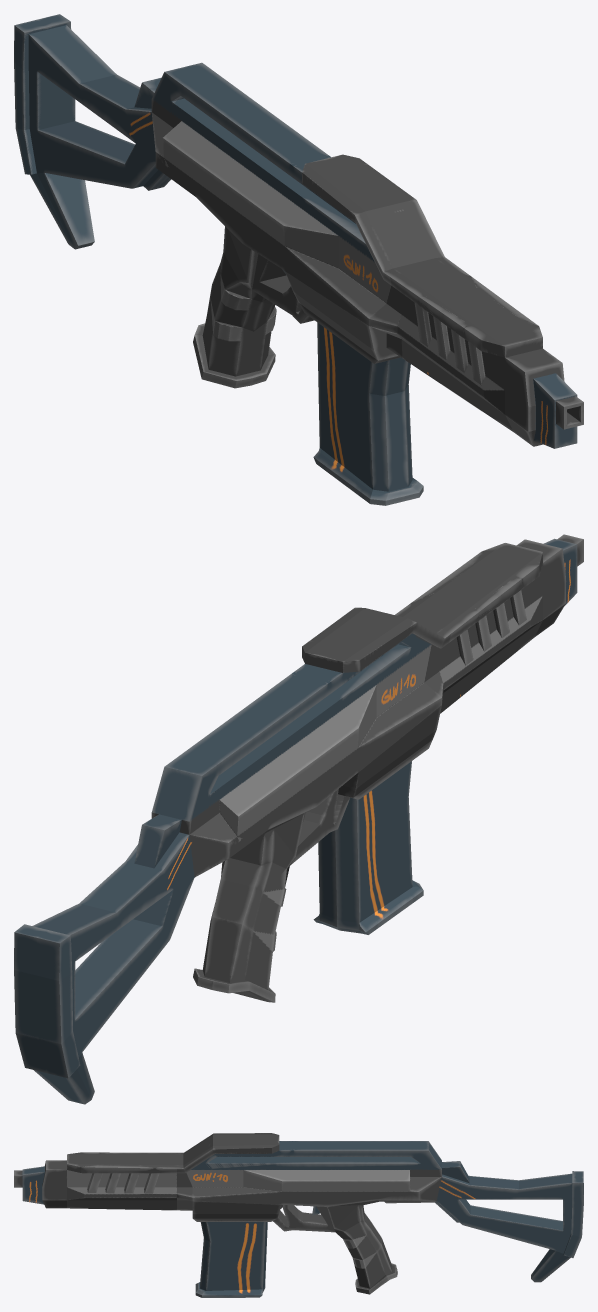
The model's file is gun_base.fbx.
3 renders of one model, top to bottom at view 1: azimuth 30°, elevation 25°; view 2: azimuth 150°, elevation 25°; view 3: azimuth 270°, elevation 25°, orthographic. The views are drawn at different scales.
Visible parts, largest first — view 1: gun; view 2: gun; view 3: gun.
Boxes of the visible parts, x1=… form: gun: x1=14, y1=14, x2=583, y2=505; gun: x1=14, y1=534, x2=583, y2=1104; gun: x1=14, y1=1133, x2=583, y2=1297.
Bounding box in the file's own units: 8.62 × 31.03 × 106.
